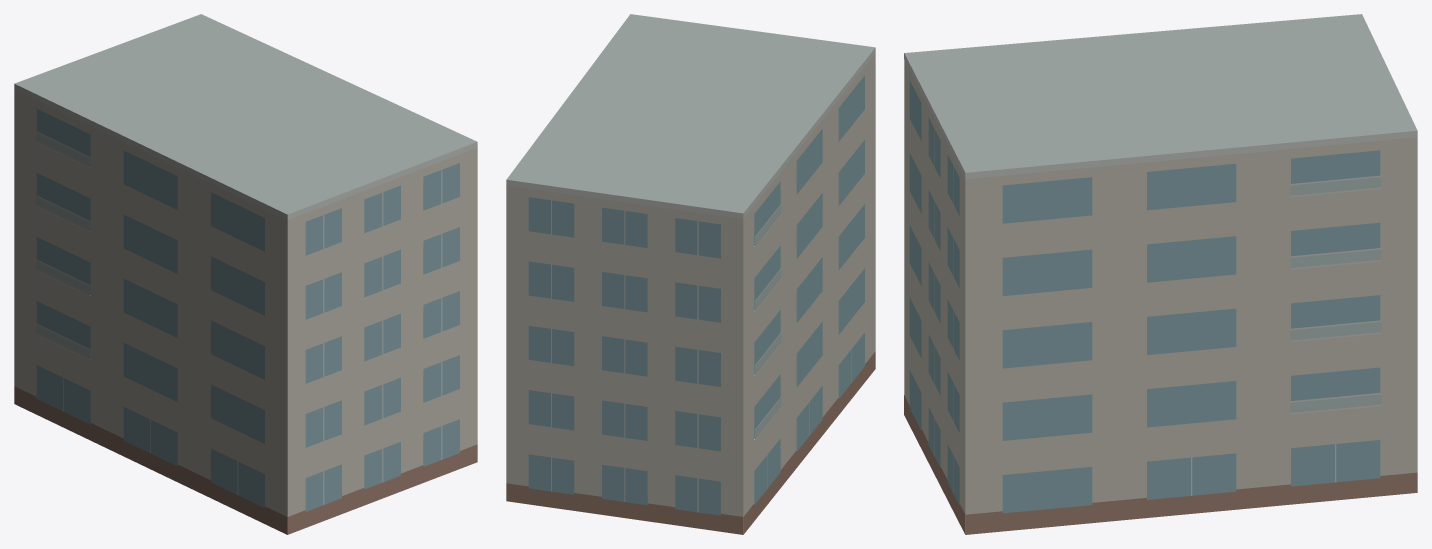
Rendered from survey-upis-32917653.glb.
3 views of the same model, side by side, from view 1: azimuth 30°, elevation 25°; view 2: azimuth 150°, elevation 25°; view 3: azimuth 270°, elevation 25° (orthographic). The views are drawn at different scales.
Parts seen in each view (by area): view 1: survey-upis-32917653.tmp; view 2: survey-upis-32917653.tmp; view 3: survey-upis-32917653.tmp.
Part boxes in pixels (left/top/right/bottom): survey-upis-32917653.tmp: left=14, top=14, right=477, bottom=534; survey-upis-32917653.tmp: left=506, top=14, right=875, bottom=534; survey-upis-32917653.tmp: left=904, top=14, right=1417, bottom=534.
Size of the model in its own units: 12.99 by 13.8 by 17.75.
